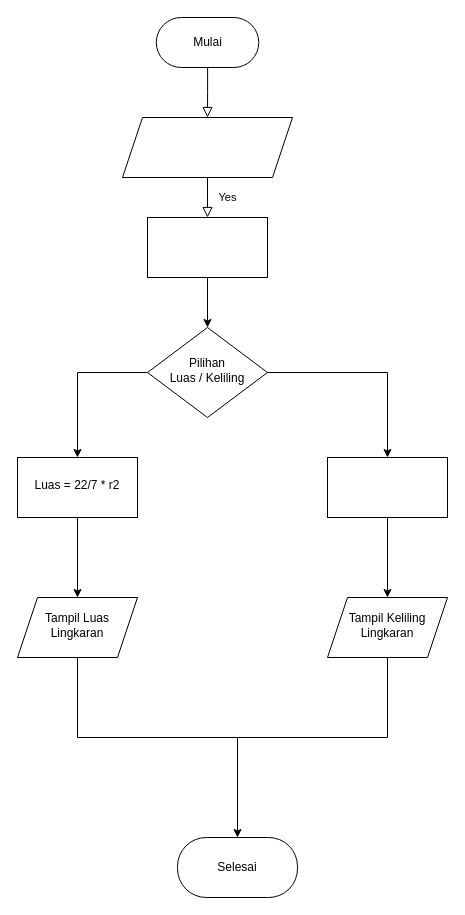
Some shapes in this 465 by 915 pixel diagram are drawn without their labels. The centre of each missing label's shape, as x and y in pixels:
Keliling = 2 * 22/7 * r: pixel 387 487
Masukan Nilai Jari-Jari (r): pixel 207 147
Phi = 22/7: pixel 207 247
